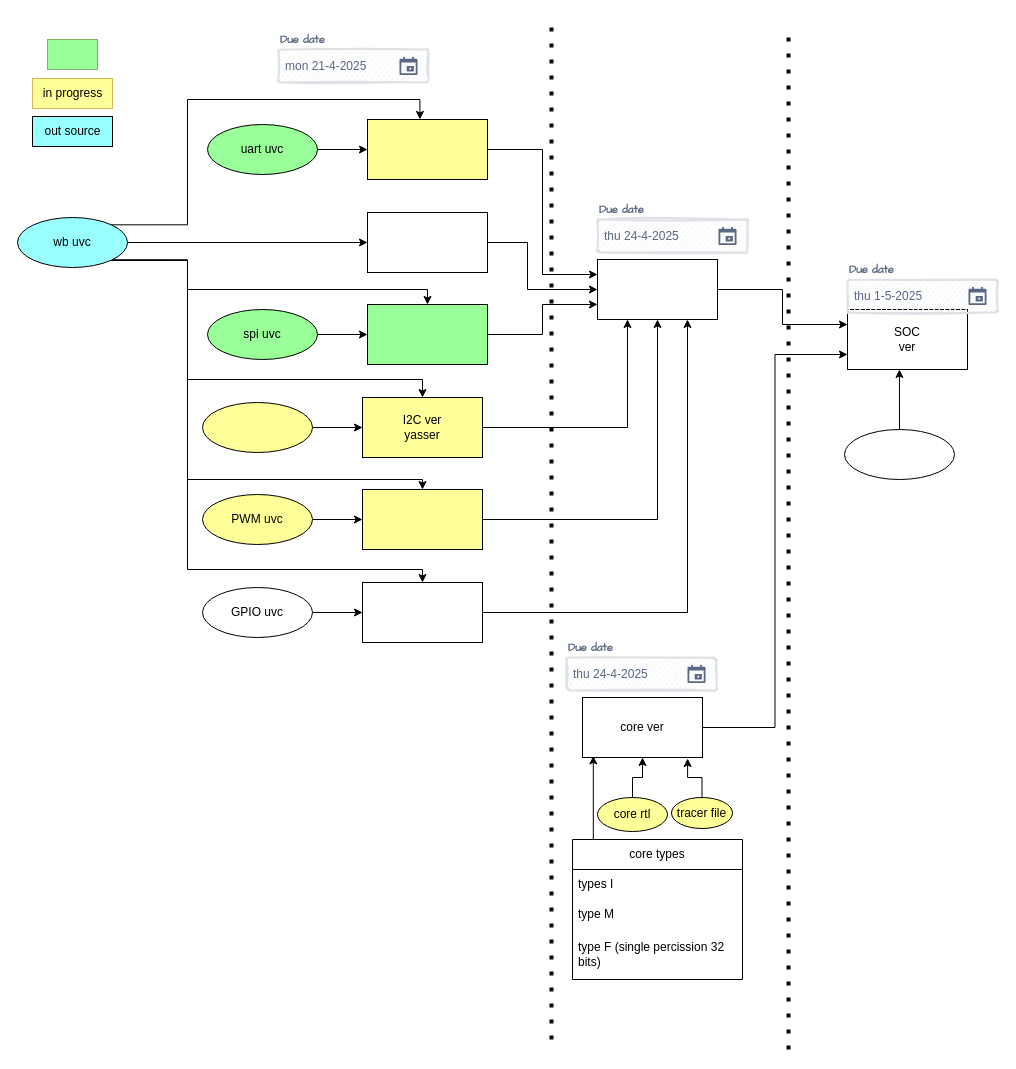
Some shapes in this 1016 by 1069 pixel diagram are drawn without their labels. Here are the shapes that lost their labels. From the top down, the box of each, then its label:
(46, 38, 98, 70): Done
(366, 118, 488, 180): uart ver
(366, 212, 488, 272): wb ver
(596, 258, 718, 320): peripherals Reda + Ahmad
(366, 304, 488, 364): spi ver
(202, 402, 312, 452): I2C uvc
(844, 428, 954, 480): simple assembly code
(362, 488, 482, 550): PWM ver rahaf
(362, 582, 482, 642): GPIO ver Reda + Ahmad
